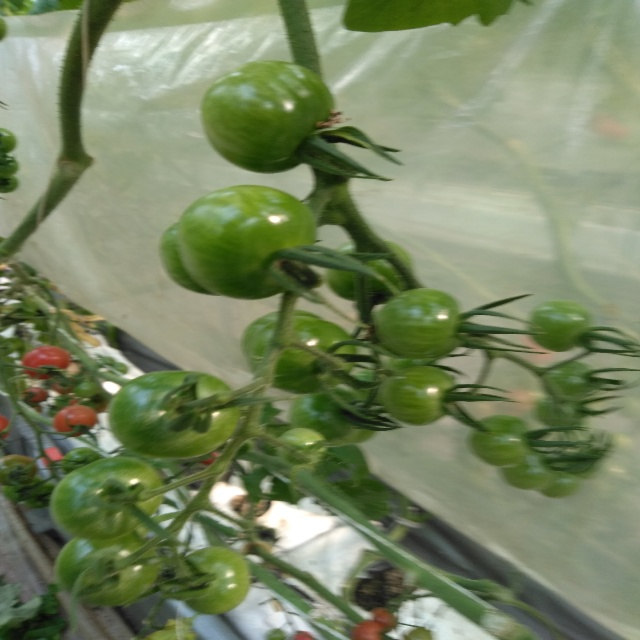l_fully_ripened: (22, 346, 69, 380)
l_green: (176, 184, 318, 300), (200, 59, 334, 174), (107, 370, 241, 460), (50, 456, 163, 542), (249, 316, 357, 395), (55, 530, 160, 607), (373, 288, 460, 359), (326, 237, 413, 305), (176, 545, 251, 616), (379, 366, 458, 427), (157, 222, 222, 296), (288, 388, 363, 447), (528, 299, 592, 353), (466, 414, 530, 468), (498, 448, 552, 492), (275, 427, 328, 466), (540, 360, 594, 398), (63, 447, 103, 475)
l_half_ripened: (53, 404, 97, 438), (0, 454, 38, 486)
